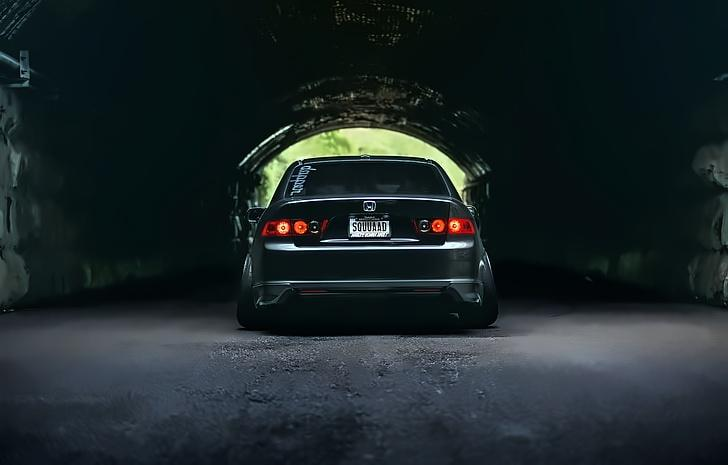Car boot: (272, 194, 458, 249)
Rear bumper: (251, 270, 485, 322)
Rear light - -L-: (256, 218, 330, 241)
Rear light - -R-: (413, 212, 475, 238)
Side mirror - -L-: (241, 205, 268, 223)
